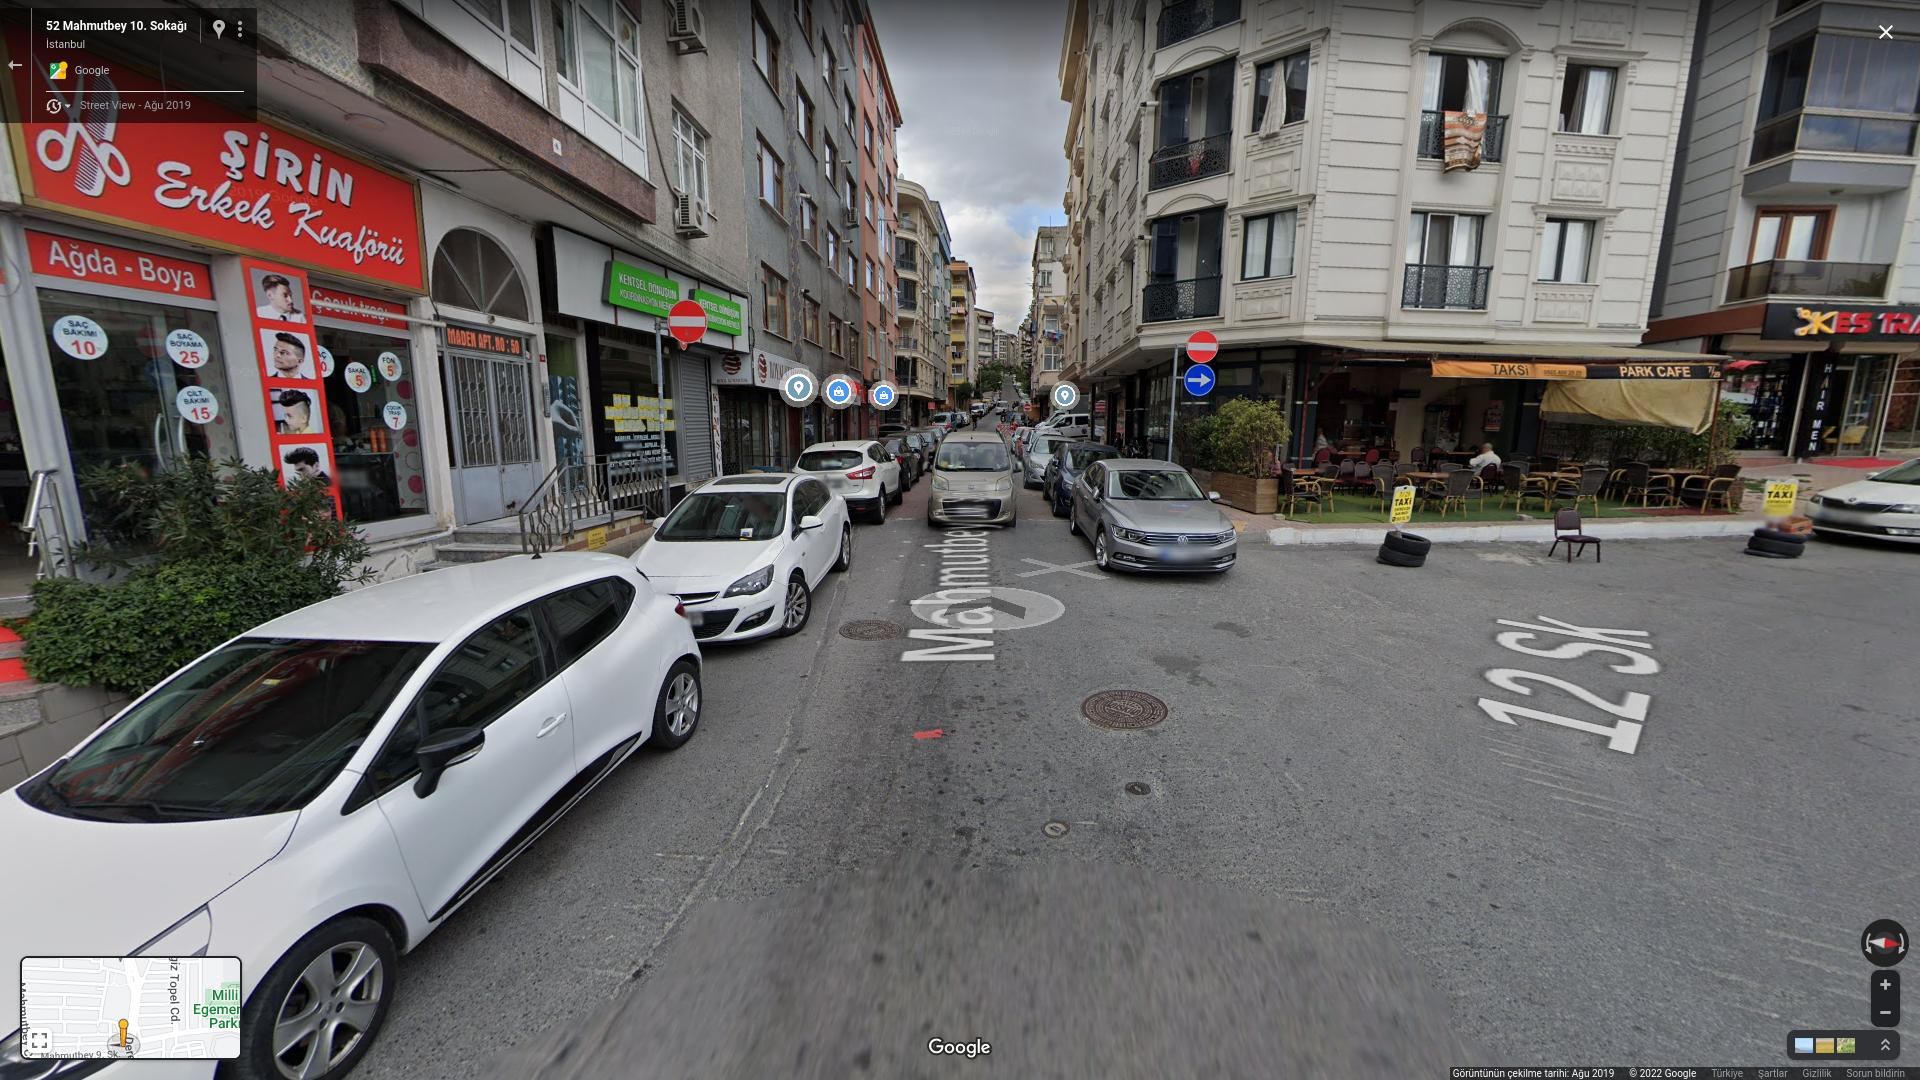turnright: (1185, 364, 1217, 396)
